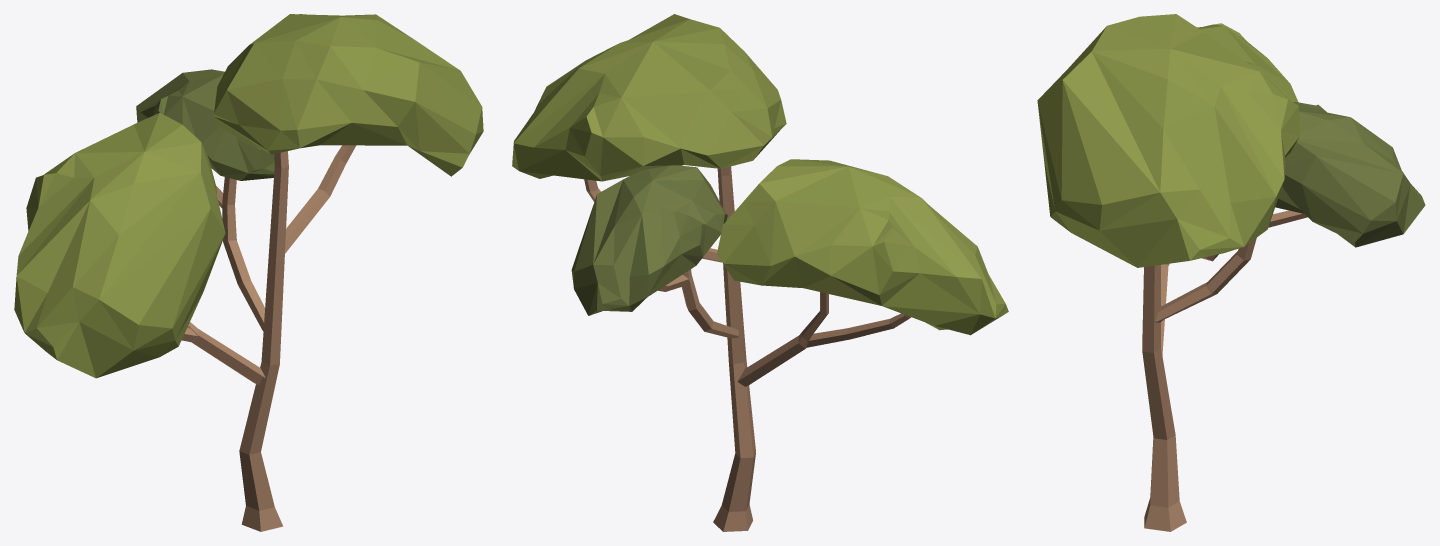
Rendered from LowPoly Tree_002.fbx.
3 renders of one model, left to right at view 1: azimuth 30°, elevation 25°; view 2: azimuth 150°, elevation 25°; view 3: azimuth 270°, elevation 25°, orthographic. The views are drawn at different scales.
Parts seen in each view (by area): view 1: LowPolyTree002; view 2: LowPolyTree002; view 3: LowPolyTree002.
Part boxes in pixels (x1=…): LowPolyTree002: x1=14, y1=14, x2=483, y2=531; LowPolyTree002: x1=512, y1=14, x2=1008, y2=531; LowPolyTree002: x1=1037, y1=14, x2=1425, y2=531.
Size of the model in its own units: 137 by 135 by 91.62.
